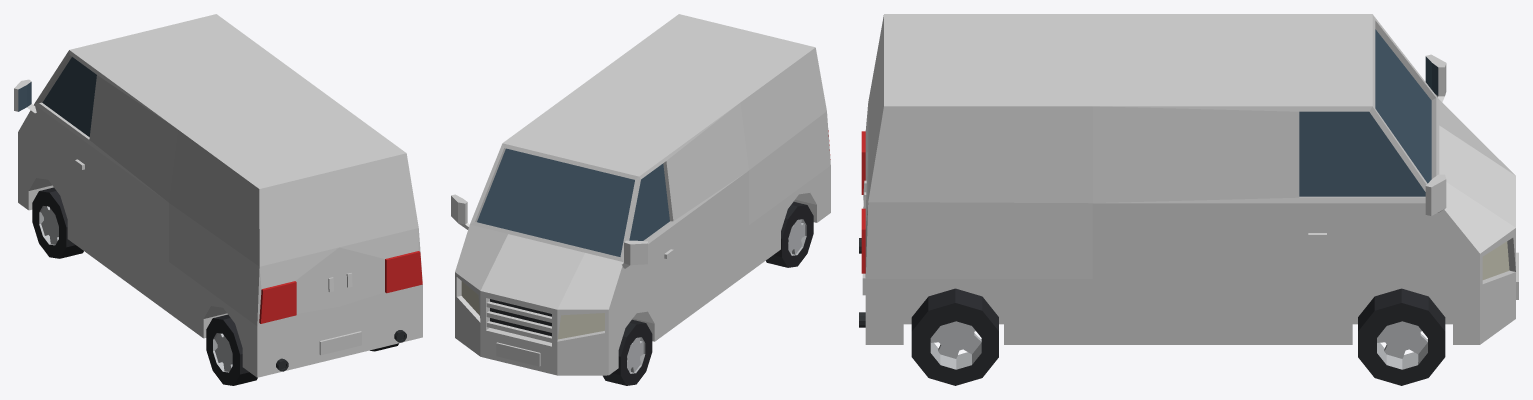
Rendered from van.glb.
The picture shows the model from 3 angles, left to right: view 1: azimuth 30°, elevation 25°; view 2: azimuth 150°, elevation 25°; view 3: azimuth 270°, elevation 25°; orthographic projection. The views are drawn at different scales.
Visible parts, largest first — view 1: Body, Wheel_RL, Wheel_FL; view 2: Body, Wheel_FL, Wheel_RL; view 3: Body, Wheel_FR, Wheel_RR.
Boxes of the visible parts, box(x1,y1,x2,y2) form: Body: box(14, 14, 422, 377); Wheel_RL: box(206, 314, 257, 385); Wheel_FL: box(32, 187, 83, 258); Body: box(451, 14, 830, 375); Wheel_FL: box(603, 319, 652, 385); Wheel_RL: box(766, 201, 813, 267); Body: box(859, 14, 1518, 344); Wheel_FR: box(1358, 288, 1445, 385); Wheel_RR: box(911, 288, 998, 385).
Size of the model in its own units: 2.81 by 2.71 by 5.91.
